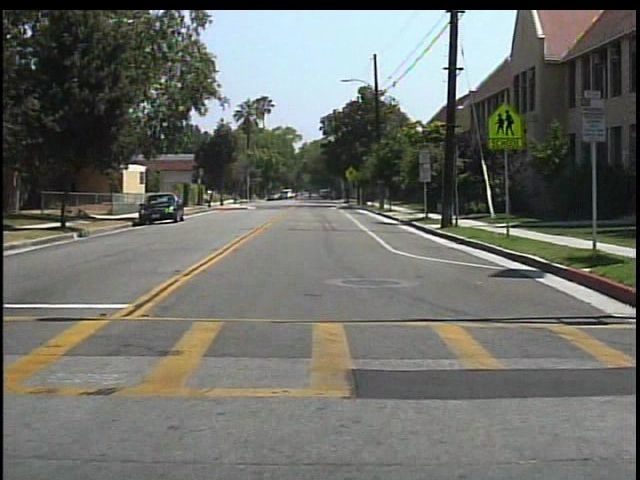person: (304, 187, 318, 204)
